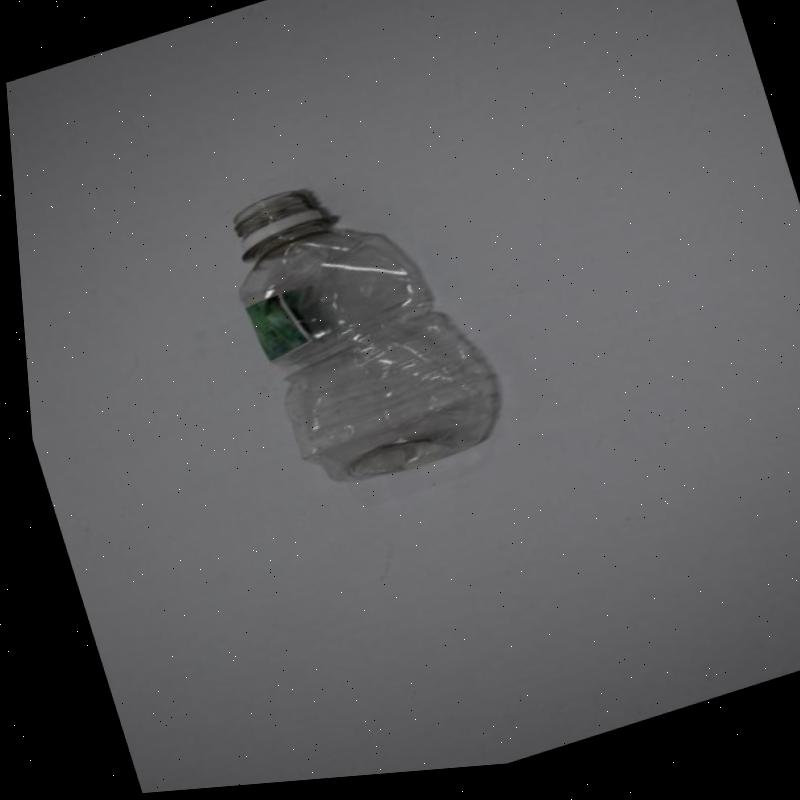botella: (205, 147, 507, 513)
